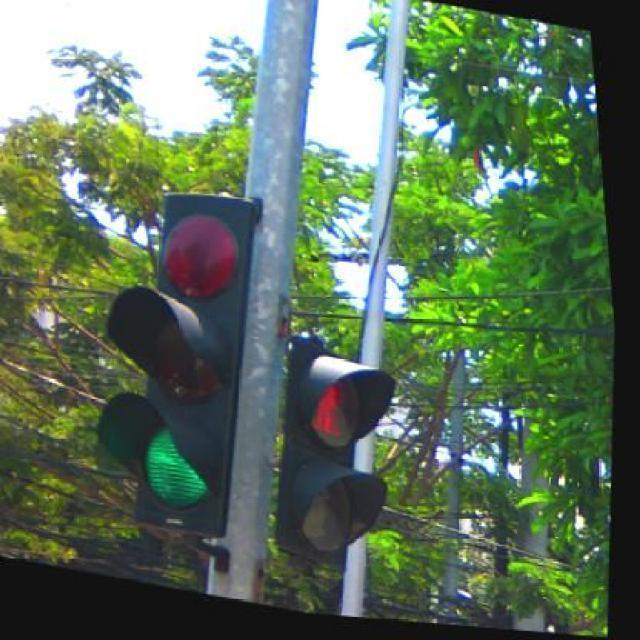green_light: (97, 192, 258, 534)
